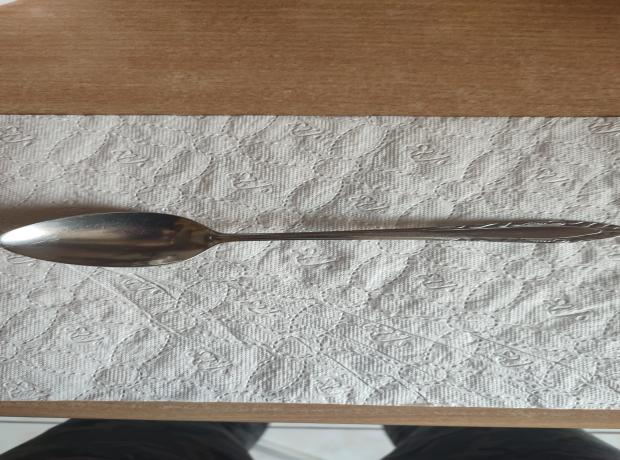metal: (0, 207, 619, 266)
